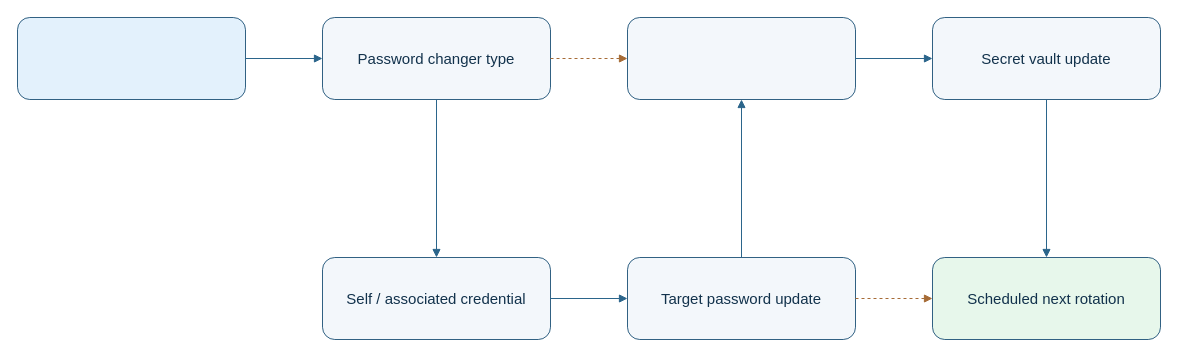
The diagram is 1178 pixels wide and 357 high, and some of its shapes have lost their labels. Here are the shapes that lost their labels. From the top down, the box of each, then its label:
(16, 16, 246, 100): Secret template
(626, 16, 856, 100): Verifier login
